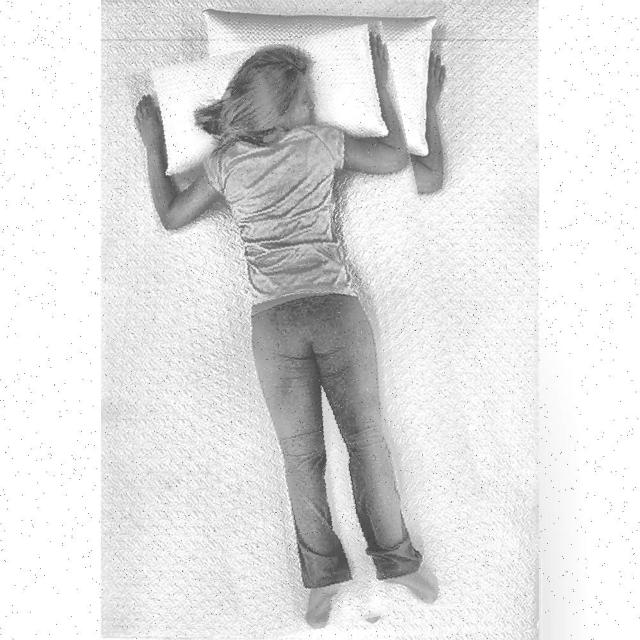Not_Supine: (134, 36, 439, 630)
